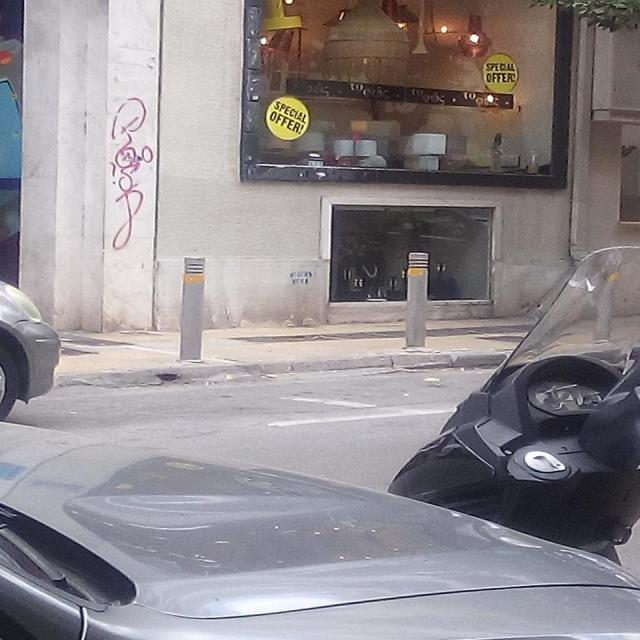nonspitting: (106, 95, 154, 252)
